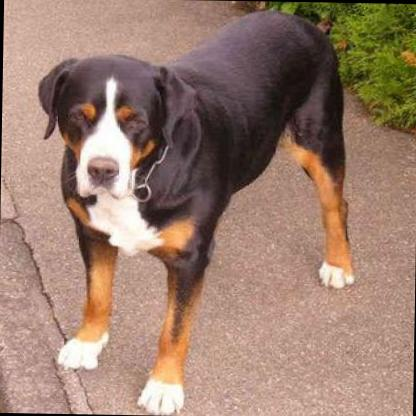Appenzeller: (25, 3, 356, 416)
